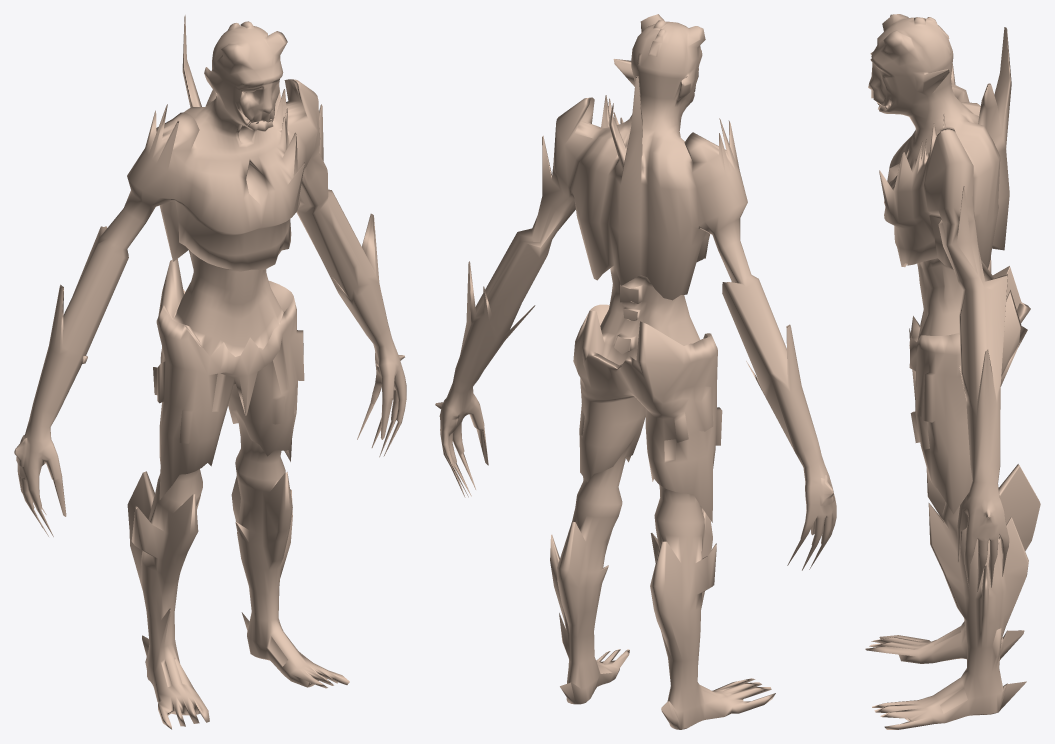
Rendered from BOB.fbx.
3 views of the same model, side by side, from view 1: azimuth 30°, elevation 25°; view 2: azimuth 150°, elevation 25°; view 3: azimuth 270°, elevation 25° (orthographic).
Parts seen in each view (by area): view 1: humanBody1; view 2: humanBody1; view 3: humanBody1.
Boxes of the visible parts, bbox=[...] form: humanBody1: bbox=[14, 15, 406, 729]; humanBody1: bbox=[435, 14, 836, 729]; humanBody1: bbox=[865, 14, 1040, 729].
Size of the model in its own units: 127 by 207 by 48.99.
